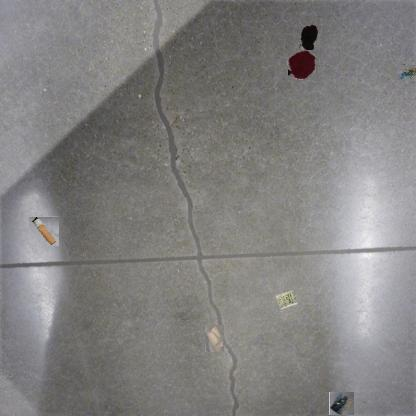dirty: (29, 216, 59, 246), (329, 392, 354, 416), (273, 288, 297, 312), (204, 324, 224, 352), (398, 63, 416, 82)
liquid: (287, 49, 317, 79), (298, 24, 320, 54)
